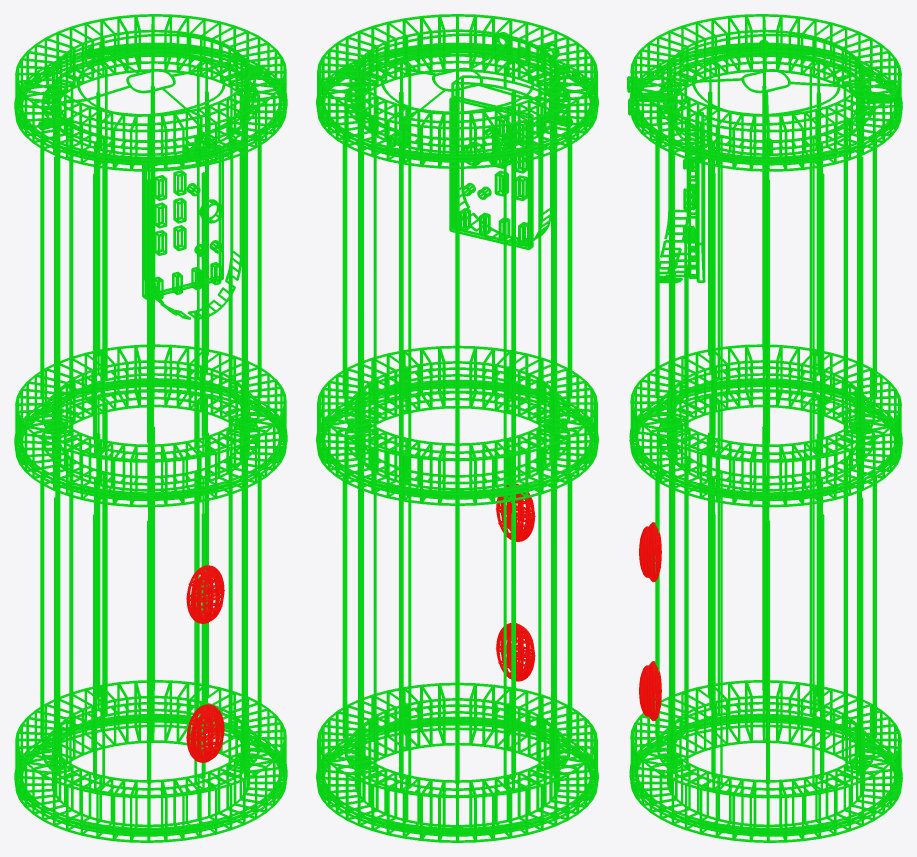
The model's file is power-amplifier-highlight-optical-coupling-ports.glb.
The picture shows the model from 3 angles, left to right: view 1: azimuth 30°, elevation 25°; view 2: azimuth 150°, elevation 25°; view 3: azimuth 270°, elevation 25°; orthographic projection.
Visible parts, largest first — view 1: chassis technical wire, distorted-reflector technical wire, ethereal-vapour-generator technical wire, optical-coupling-ports technical wire; view 2: chassis technical wire, distorted-reflector technical wire, ethereal-vapour-generator technical wire, optical-coupling-ports technical wire; view 3: chassis technical wire, distorted-reflector technical wire, optical-coupling-ports technical wire, ethereal-vapour-generator technical wire.
Boxes of the visible parts, x1,y1,x2,y2 form: chassis technical wire: [14, 14, 287, 842]; distorted-reflector technical wire: [46, 33, 255, 142]; ethereal-vapour-generator technical wire: [153, 130, 247, 298]; optical-coupling-ports technical wire: [186, 565, 224, 762]; chassis technical wire: [316, 14, 598, 842]; distorted-reflector technical wire: [348, 33, 566, 140]; ethereal-vapour-generator technical wire: [459, 32, 559, 244]; optical-coupling-ports technical wire: [496, 483, 535, 681]; chassis technical wire: [629, 14, 902, 842]; distorted-reflector technical wire: [661, 33, 871, 142]; optical-coupling-ports technical wire: [639, 522, 661, 721]; ethereal-vapour-generator technical wire: [627, 76, 696, 278].
Size of the model in its own units: 0.9641 by 2.72 by 0.9534.
